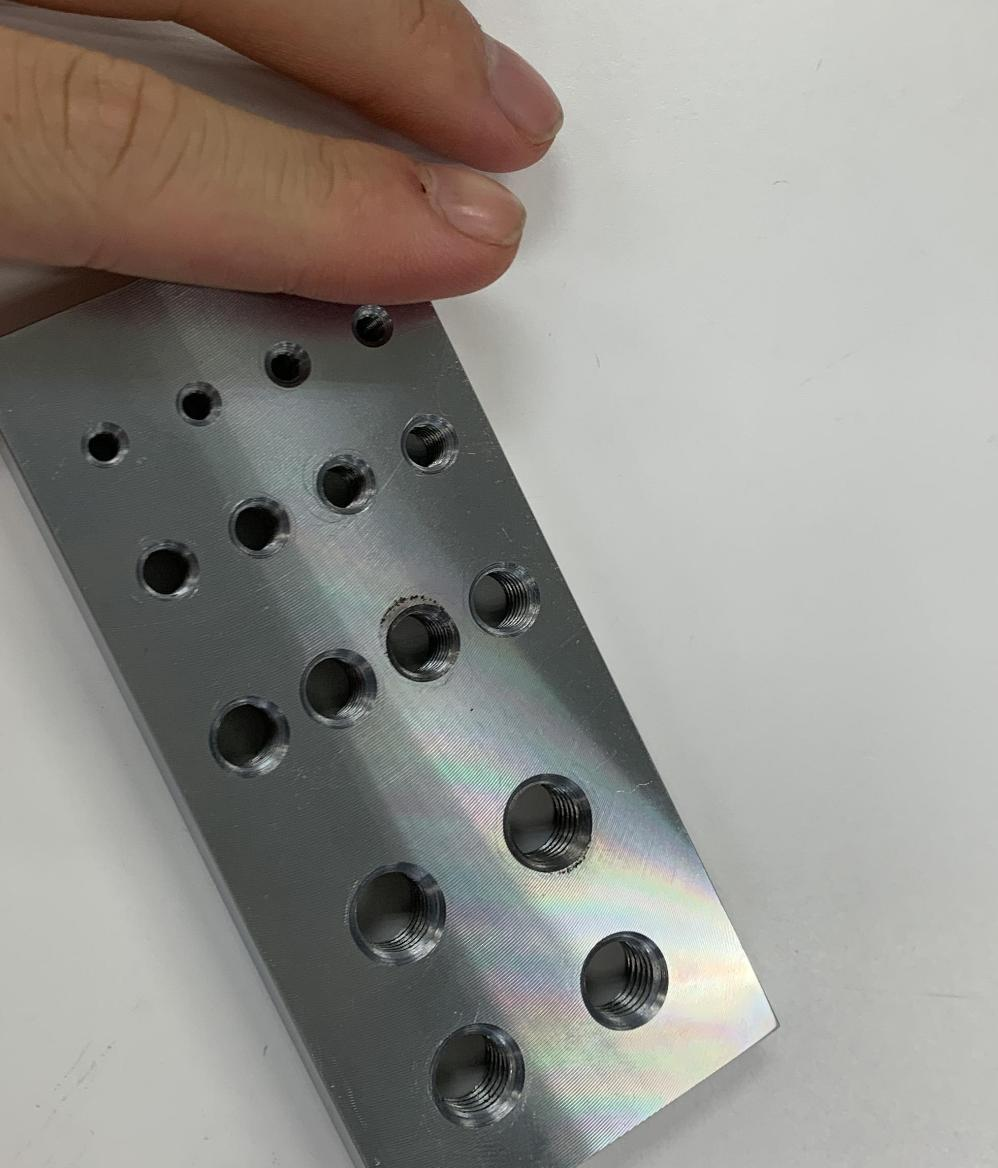hole: (545, 912, 705, 1046), (324, 840, 460, 991), (414, 1002, 552, 1140), (486, 749, 613, 891), (200, 679, 309, 791), (366, 586, 472, 701), (466, 546, 560, 656), (212, 482, 304, 578), (293, 638, 385, 732), (121, 520, 213, 614), (298, 442, 386, 530), (394, 406, 470, 478), (78, 410, 146, 480), (167, 371, 233, 439), (256, 334, 320, 394), (349, 304, 407, 358)
